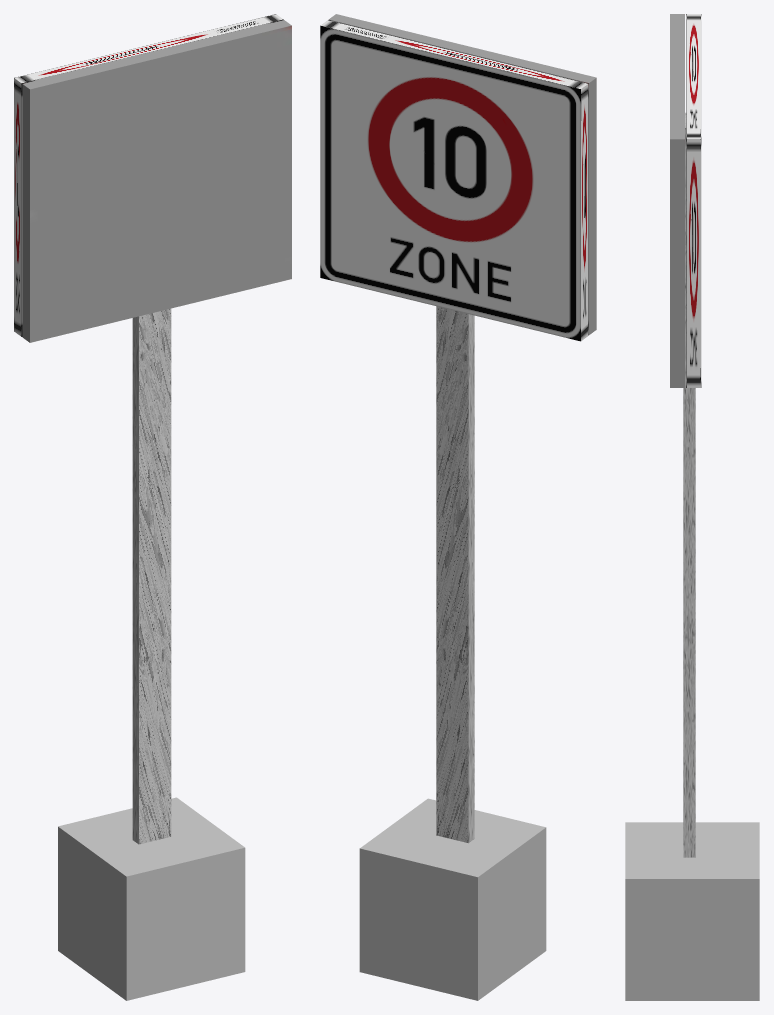
Rendered from 10SpeedLimit.obj.
3 views of the same model, side by side, from view 1: azimuth 30°, elevation 25°; view 2: azimuth 150°, elevation 25°; view 3: azimuth 270°, elevation 25° (orthographic).
Parts seen in each view (by area): view 1: Cube_Cube.002, Cube, STOPALLM_1, Cube_Cube.001; view 2: Cube_Cube.001, Cube, STOPALLM_1, Cube_Cube.002; view 3: Cube, STOPALLM_1, Cube_Cube.001, Cube_Cube.002.
Part boxes in pixels (x1,y1,x2,y2): Cube_Cube.002: (22,20,291,342); Cube: (58,797,245,1000); STOPALLM_1: (132,308,171,844); Cube_Cube.001: (14,14,283,336); Cube_Cube.001: (320,20,588,341); Cube: (359,798,546,1000); STOPALLM_1: (436,306,474,843); Cube_Cube.002: (328,14,596,335); Cube: (625,822,759,1000); STOPALLM_1: (683,112,695,857); Cube_Cube.001: (686,14,701,387); Cube_Cube.002: (670,14,684,387).
Size of the model in its own units: 4.41 by 14.68 by 2.
